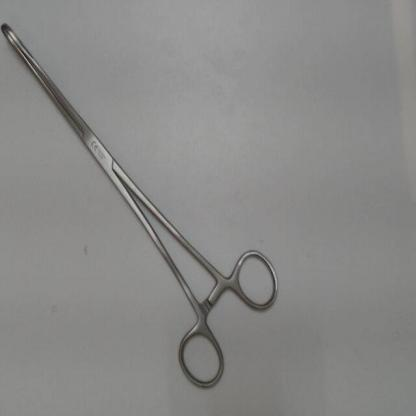Sponge Forceps: (0, 18, 285, 396)
